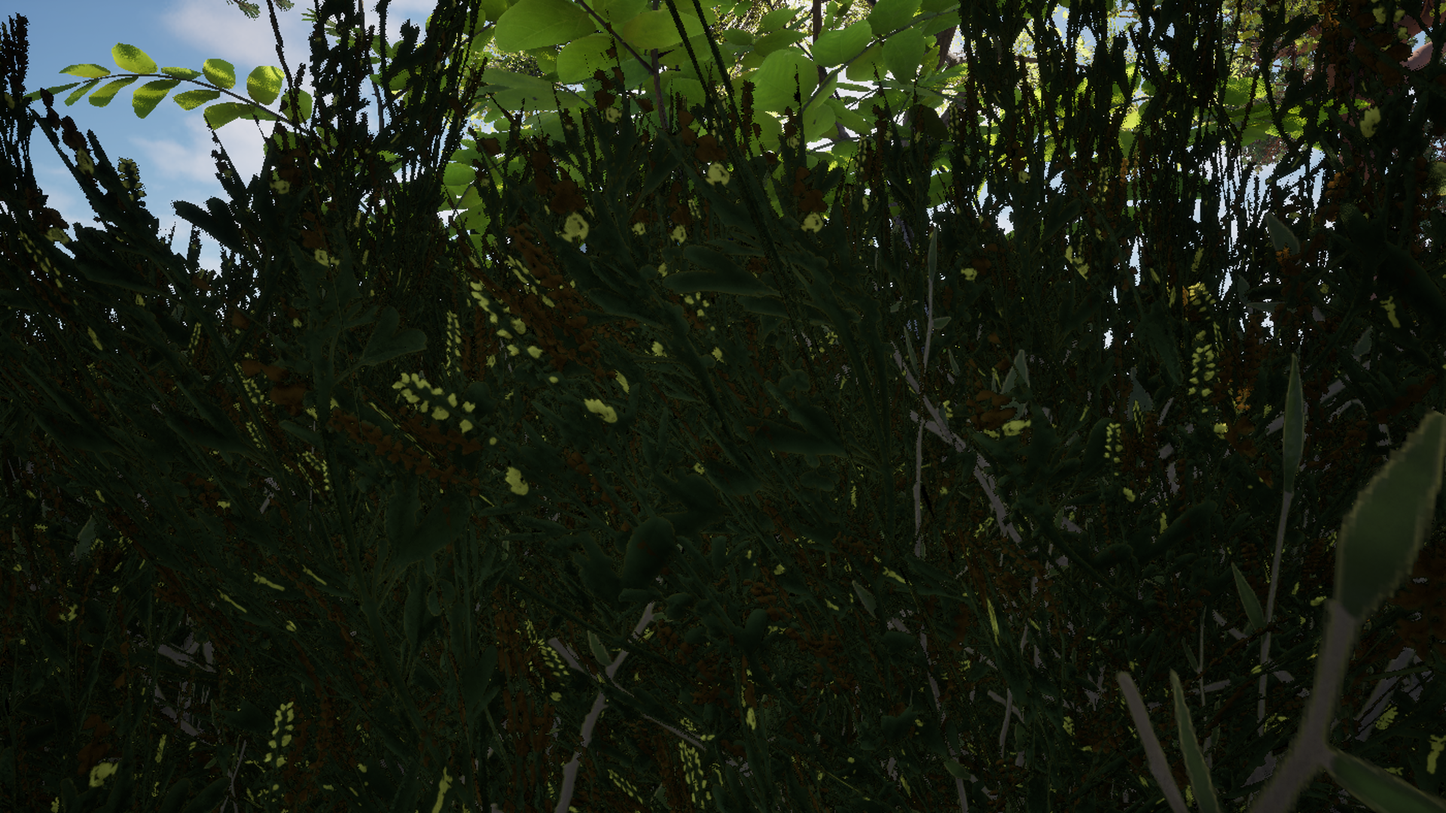Piplup: (368, 0, 1029, 813)
